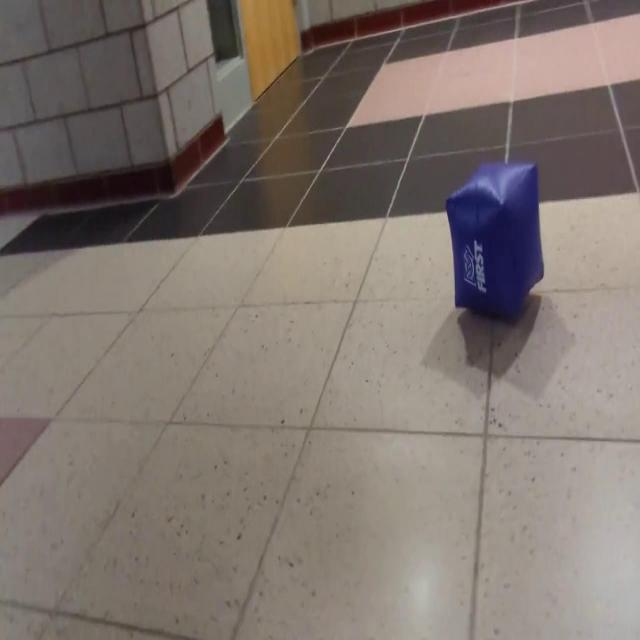frc_cube: (445, 158, 543, 324)
